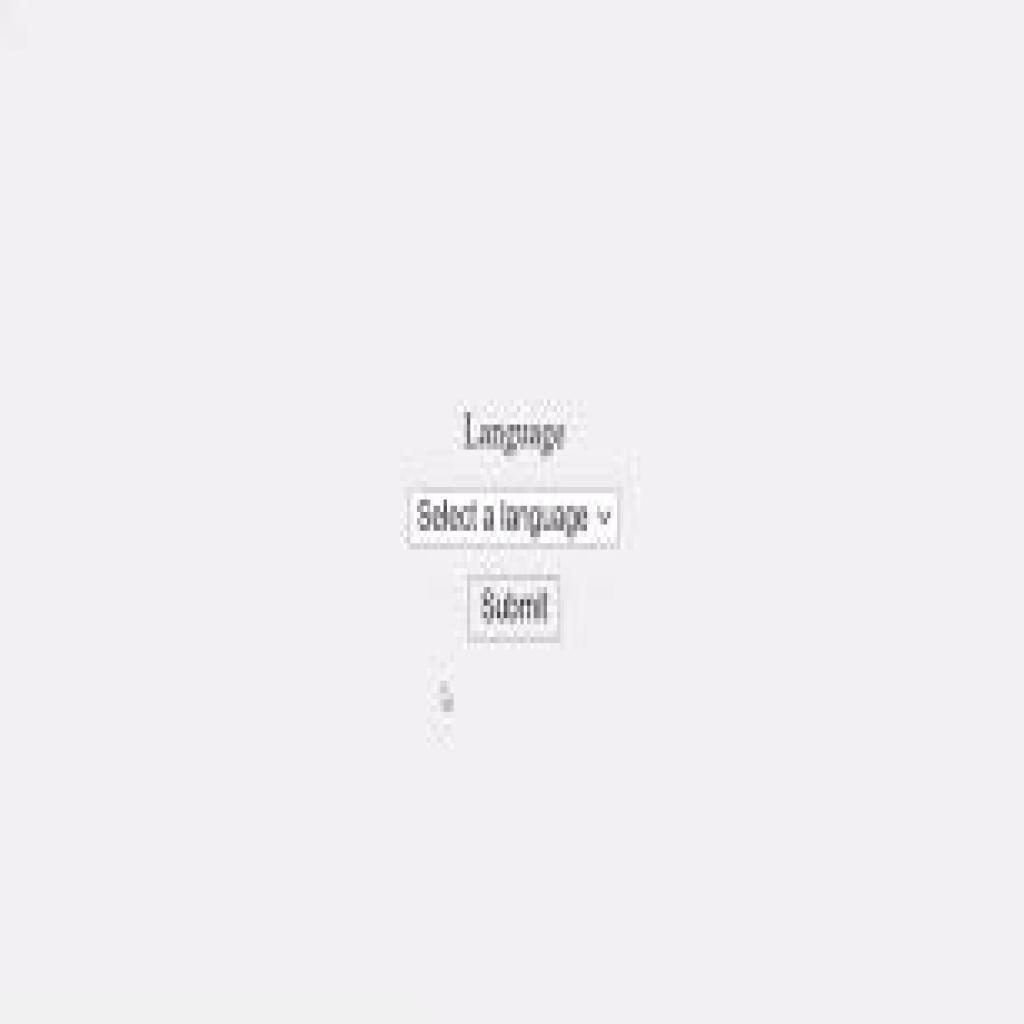button: (466, 573, 562, 642)
dropdown: (412, 487, 624, 545)
